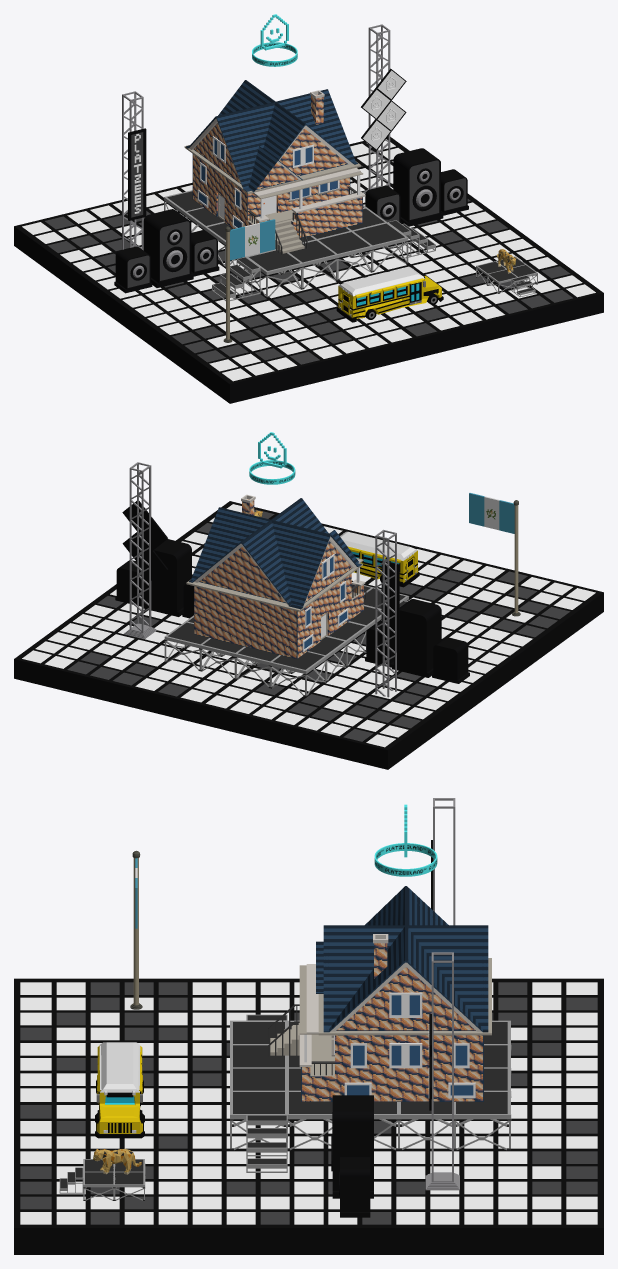
3 renders of one model, top to bottom at view 1: azimuth 30°, elevation 25°; view 2: azimuth 150°, elevation 25°; view 3: azimuth 270°, elevation 25°, orthographic. The views are drawn at different scales.
Visible parts, largest first — view 1: Cube.008, Cube.430, VEHICLES_SCHOOL_BUS, OBJRANDOM_GUATEMALAN_FLAG, TYPE_PREMIUM; view 2: Cube.008, Cube.430, VEHICLES_SCHOOL_BUS, OBJRANDOM_GUATEMALAN_FLAG, TYPE_PREMIUM; view 3: Cube.008, Cube.430, VEHICLES_SCHOOL_BUS, TYPE_PREMIUM, OBJRANDOM_GUATEMALAN_FLAG, ANIMAL_JAGUAR.
Boxes of the visible parts, left/top/right/bottom form: Cube.008: left=14, top=24, right=603, bottom=403; Cube.430: left=184, top=80, right=365, bottom=254; VEHICLES_SCHOOL_BUS: left=336, top=267, right=443, bottom=322; OBJRANDOM_GUATEMALAN_FLAG: left=223, top=219, right=275, bottom=342; TYPE_PREMIUM: left=252, top=14, right=297, bottom=66; Cube.008: left=14, top=462, right=603, bottom=769; Cube.430: left=186, top=494, right=366, bottom=658; VEHICLES_SCHOOL_BUS: left=339, top=531, right=419, bottom=587; OBJRANDOM_GUATEMALAN_FLAG: left=469, top=493, right=520, bottom=616; TYPE_PREMIUM: left=249, top=432, right=295, bottom=484; Cube.008: left=14, top=798, right=603, bottom=1254; Cube.430: left=268, top=886, right=491, bottom=1101; VEHICLES_SCHOOL_BUS: left=95, top=1042, right=144, bottom=1138; TYPE_PREMIUM: left=374, top=804, right=437, bottom=876; OBJRANDOM_GUATEMALAN_FLAG: left=130, top=850, right=142, bottom=1009; ANIMAL_JAGUAR: left=93, top=1148, right=141, bottom=1174.
Size of the model in its own units: 4000 by 2612 by 4000.
48 materials, 3 textured.
